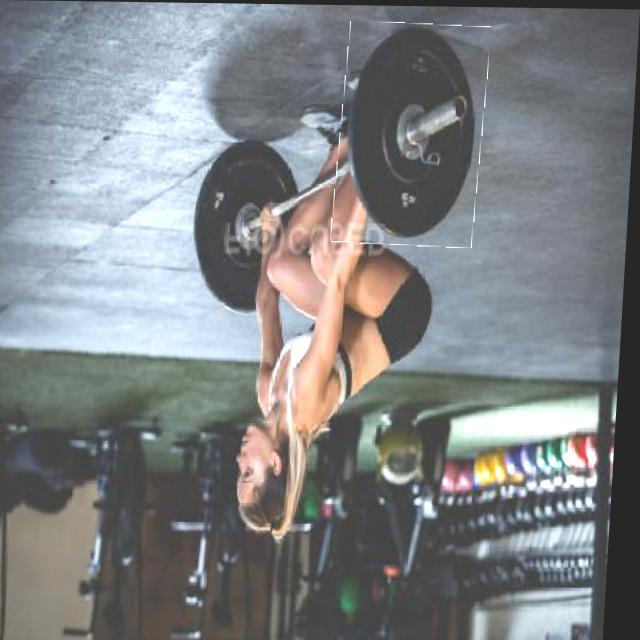barbell: (336, 22, 491, 247)
